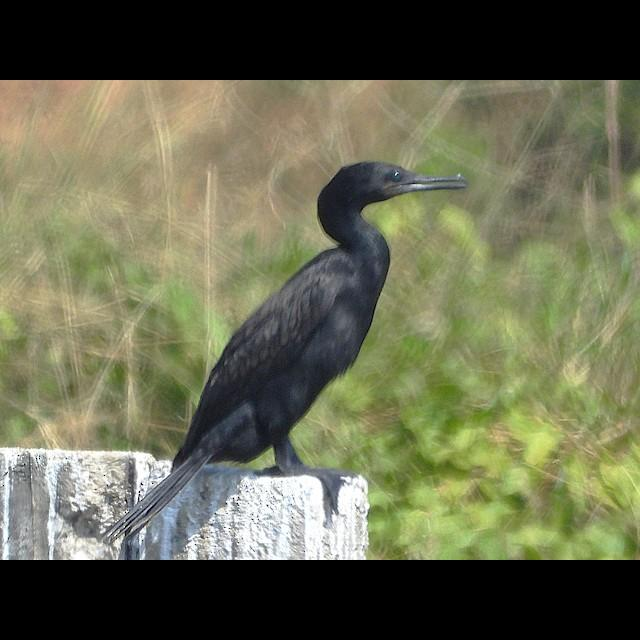cormorant: (117, 140, 479, 524)
